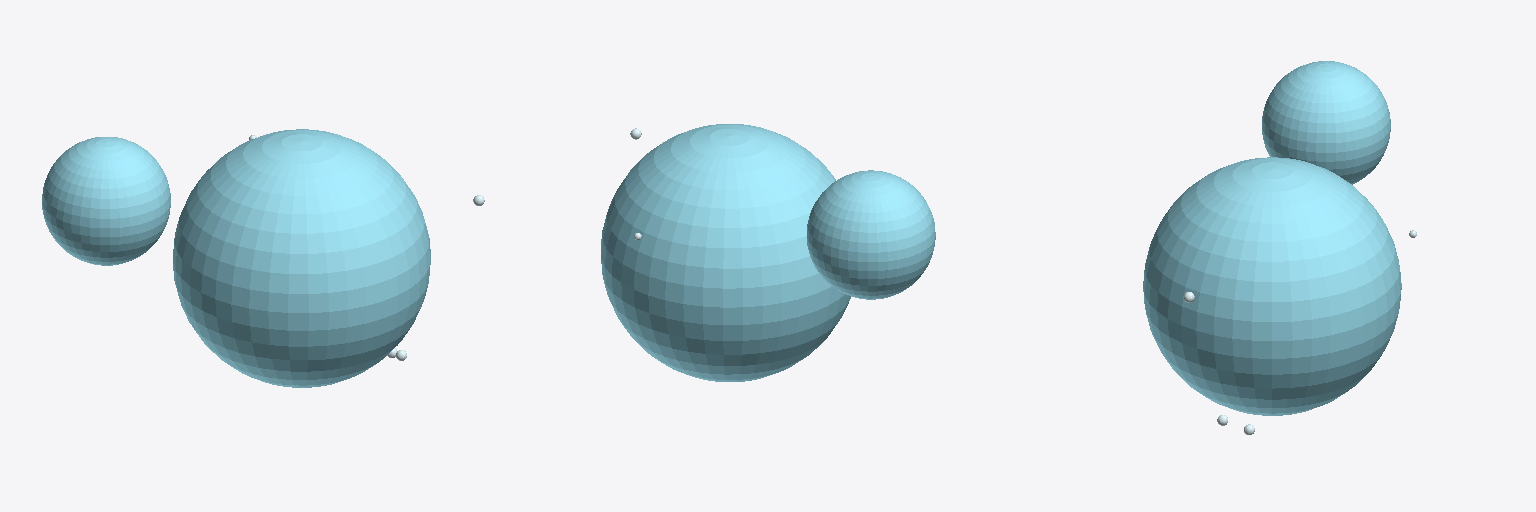
Rendered from bulles_eau_2.obj.
3 renders of one model, left to right at view 1: azimuth 30°, elevation 25°; view 2: azimuth 150°, elevation 25°; view 3: azimuth 270°, elevation 25°, orthographic.
Visible parts, largest first — view 1: Sphère, Sphère.12; view 2: Sphère, Sphère.12; view 3: Sphère, Sphère.12.
Boxes of the visible parts, box(x1,y1,x2,y2) form: Sphère: box(173, 129, 430, 387); Sphère.12: box(42, 137, 170, 265); Sphère: box(601, 124, 850, 381); Sphère.12: box(807, 170, 935, 299); Sphère: box(1143, 157, 1401, 415); Sphère.12: box(1262, 61, 1390, 184).
Size of the model in its own units: 326 by 217 by 212.